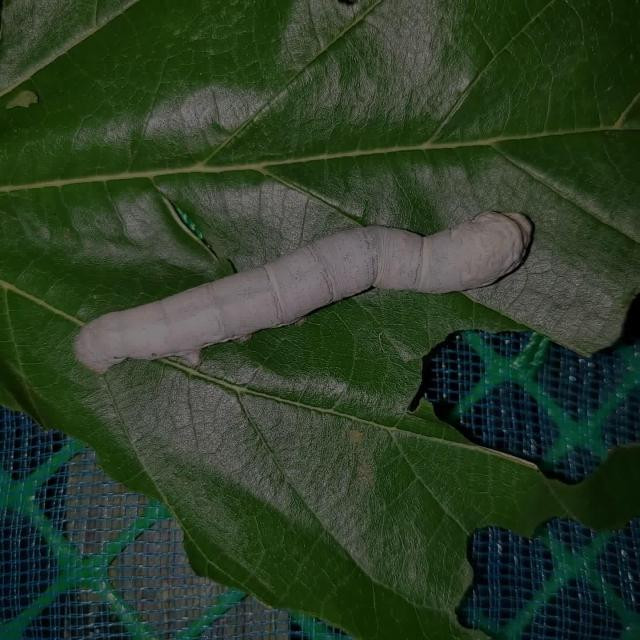Healthy: (54, 177, 559, 396)
